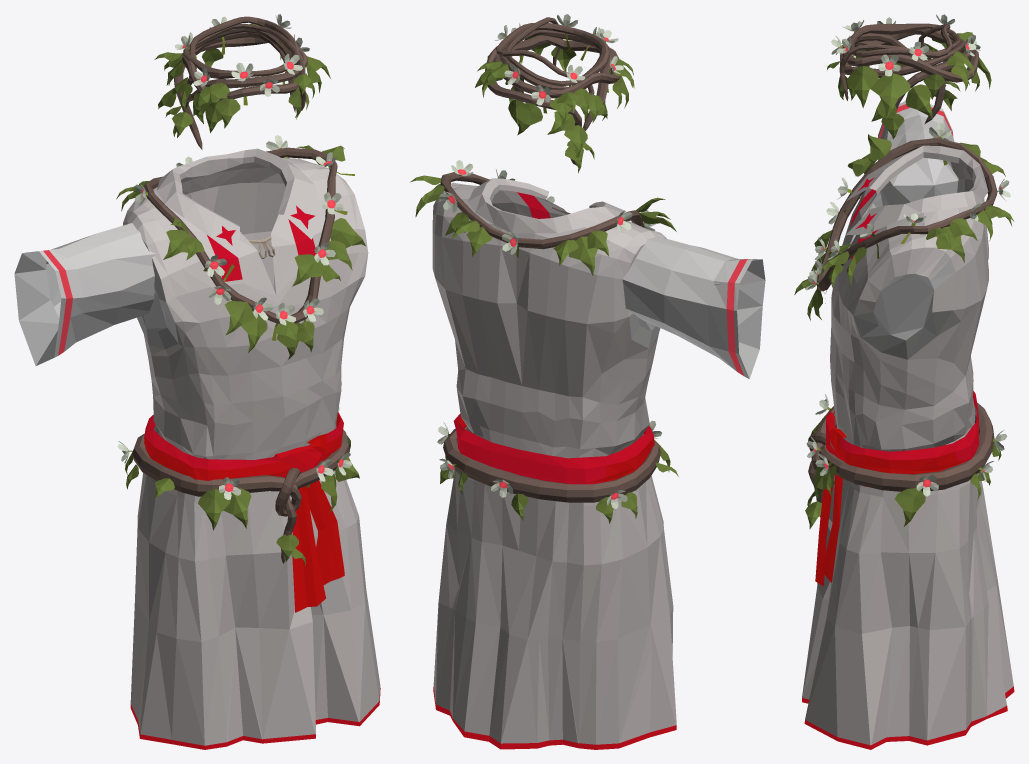
File: flowerDress.glb
3 views of the same model, side by side, from view 1: azimuth 30°, elevation 25°; view 2: azimuth 150°, elevation 25°; view 3: azimuth 270°, elevation 25° (orthographic).
Visible parts, largest first — view 1: flowerDress, flowerDresstUpperArm, flowerHat; view 2: flowerDress, flowerDresstUpperArm, flowerHat; view 3: flowerDress, flowerHat, flowerDresstUpperArm.
Part boxes in pixels (left/top/right/bottom): flowerDress: left=116, top=135, right=380, bottom=749; flowerDresstUpperArm: left=14, top=223, right=155, bottom=365; flowerHat: left=154, top=14, right=330, bottom=149; flowerDress: left=410, top=160, right=678, bottom=749; flowerDresstUpperArm: left=622, top=236, right=765, bottom=378; flowerHat: left=475, top=14, right=634, bottom=173; flowerDress: left=794, top=122, right=1014, bottom=749; flowerHat: left=827, top=14, right=991, bottom=139; flowerDresstUpperArm: left=878, top=101, right=958, bottom=205.
Bounding box in the file's own units: 0.8419 × 1.66 × 0.4921.
